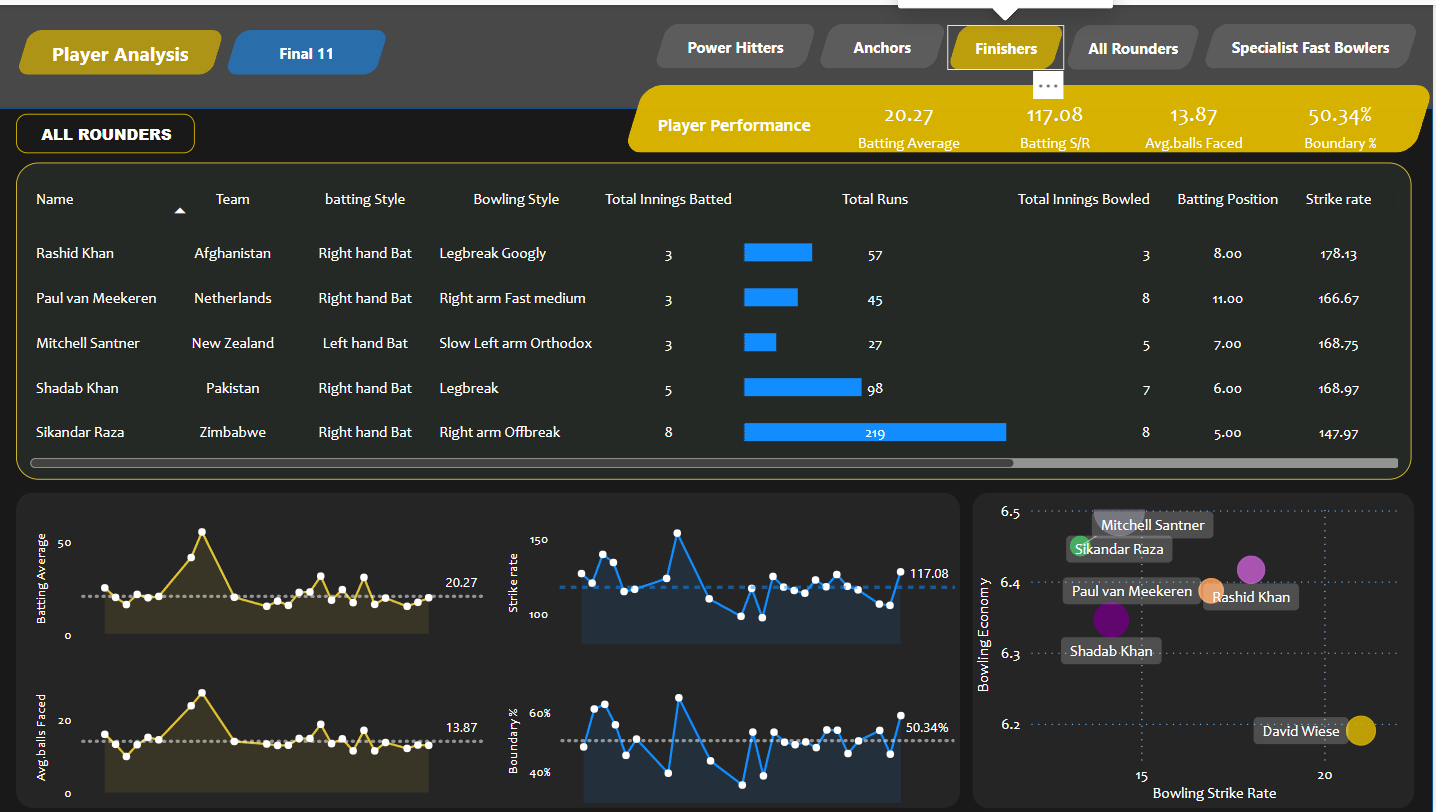

This screenshot's page, from the dashboard's own definition file:
{"tool":"powerbi","page":{"name":"Finisher List","canvas":[1280,720],"ordinal":4},"visuals":[{"type":"shape","box":[0,91.7,1279.6,628.3],"z":0},{"type":"shape","box":[558.5,71.4,721.8,60.4],"z":1000},{"type":"card","fields":{"Values":["Key Measure.Batting Average"]},"box":[747.9,74.1,130.4,61.7],"z":2000},{"type":"card","fields":{"Values":["Key Measure.Strike rate"]},"box":[878.2,71.4,130.4,68.6],"z":3000},{"type":"card","fields":{"Values":["Key Measure.Avg.balls Faced"]},"box":[1001.7,71.4,130.4,68.6],"z":4000},{"type":"card","fields":{"Values":["Key Measure.Boundary %"]},"box":[1132.1,71.4,130.4,68.6],"z":5000},{"type":"textbox","box":[584.6,91.9,163.3,39.8],"z":6000},{"type":"textbox","box":[18.1,96.5,124.2,35],"z":7000},{"type":"shape","box":[868.6,433.6,393.8,281.3],"z":8000},{"type":"shape","box":[18.1,434.2,840.6,281],"z":9000},{"type":"areaChart","fields":{"Y":["Key Measure.Batting Average"],"Category":["Match_summary.matchDate.Variation.Date Hierarchy.Day"]},"box":[30.2,447.4,408.8,126.6],"z":10000},{"type":"areaChart","fields":{"Y":["Key Measure.Strike rate"],"Category":["Match_summary.matchDate.Variation.Date Hierarchy.Day"]},"box":[449.8,447.4,408.8,126.6],"z":11000},{"type":"areaChart","fields":{"Category":["Match_summary.matchDate.Variation.Date Hierarchy.Day"],"Y":["Key Measure.Avg.balls Faced"]},"box":[30.2,588.5,408.8,126.6],"z":12000},{"type":"areaChart","fields":{"Y":["Key Measure.Boundary %"],"Category":["Match_summary.matchDate.Variation.Date Hierarchy.Day"]},"box":[449.8,588.5,408.8,126.6],"z":13000},{"type":"actionButton","box":[584.9,16.9,145.9,39.8],"z":14000},{"type":"actionButton","box":[730.9,16.9,115.8,39.8],"z":15000},{"type":"actionButton","box":[846.6,18.1,104.9,39.8],"z":16000},{"type":"actionButton","box":[951.6,18.1,121.8,39.8],"z":17000},{"type":"actionButton","box":[1073.4,16.9,193,39.8],"z":18000},{"type":"actionButton","box":[203.8,21.7,145.9,39.8],"z":19000},{"type":"actionButton","box":[18.1,21.7,185.7,39.8],"z":20000},{"type":"tableEx","fields":{"Values":["Players_Summary.name","Players_Summary.team","Players_Summary.battingStyle","Players_Summary.bowlingStyle","Key Measure.Total Innings Batted","Key Measure.Total Runs","Key Measure.Total Balls Faced","Key Measure.Strike rate","Key Measure.Batting Average","Key Measure.Batting Position","Key Measure.Boundary %","Key Measure.Wickets"]},"box":[18.1,139.9,1242.2,282.2],"z":21000},{"type":"scatterChart","fields":{"Y":["Key Measure.Strike rate"],"X":["Key Measure.Batting Average"],"Series":["Players_Summary.name"],"Category":["Players_Summary.name"]},"box":[868.3,434.2,392,281],"z":22000}]}

Visuals, with their boxes in screenshot pixels (x1, y1, x2, y2), scaled from the page's 1280x720 canvas onto the 1436x812 screenshot:
shape: select_region(0, 103, 1435, 811)
shape: select_region(627, 81, 1435, 149)
card - Key Measure.Batting Average: select_region(839, 84, 985, 153)
card - Key Measure.Strike rate: select_region(985, 81, 1132, 158)
card - Key Measure.Avg.balls Faced: select_region(1124, 81, 1270, 158)
card - Key Measure.Boundary %: select_region(1270, 81, 1416, 158)
textbox: select_region(656, 104, 839, 149)
textbox: select_region(20, 109, 160, 148)
shape: select_region(974, 489, 1416, 806)
shape: select_region(20, 490, 963, 807)
areaChart - Key Measure.Batting Average x Match_summary.matchDate.Variation.Date Hierarchy.Day: select_region(34, 505, 493, 647)
areaChart - Key Measure.Strike rate x Match_summary.matchDate.Variation.Date Hierarchy.Day: select_region(505, 505, 963, 647)
areaChart - Match_summary.matchDate.Variation.Date Hierarchy.Day x Key Measure.Avg.balls Faced: select_region(34, 664, 493, 806)
areaChart - Key Measure.Boundary % x Match_summary.matchDate.Variation.Date Hierarchy.Day: select_region(505, 664, 963, 806)
actionButton: select_region(656, 19, 820, 64)
actionButton: select_region(820, 19, 950, 64)
actionButton: select_region(950, 20, 1067, 65)
actionButton: select_region(1068, 20, 1204, 65)
actionButton: select_region(1204, 19, 1421, 64)
actionButton: select_region(229, 24, 392, 69)
actionButton: select_region(20, 24, 229, 69)
tableEx - Players_Summary.name x Players_Summary.team: select_region(20, 158, 1414, 476)
scatterChart - Key Measure.Strike rate x Key Measure.Batting Average: select_region(974, 490, 1414, 807)
